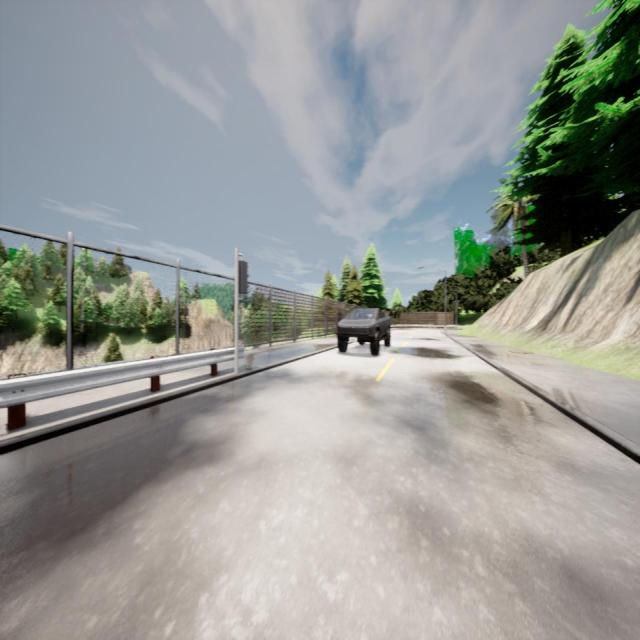Vehicle: (338, 308, 390, 355)
traffic_light: (238, 261, 249, 293)
